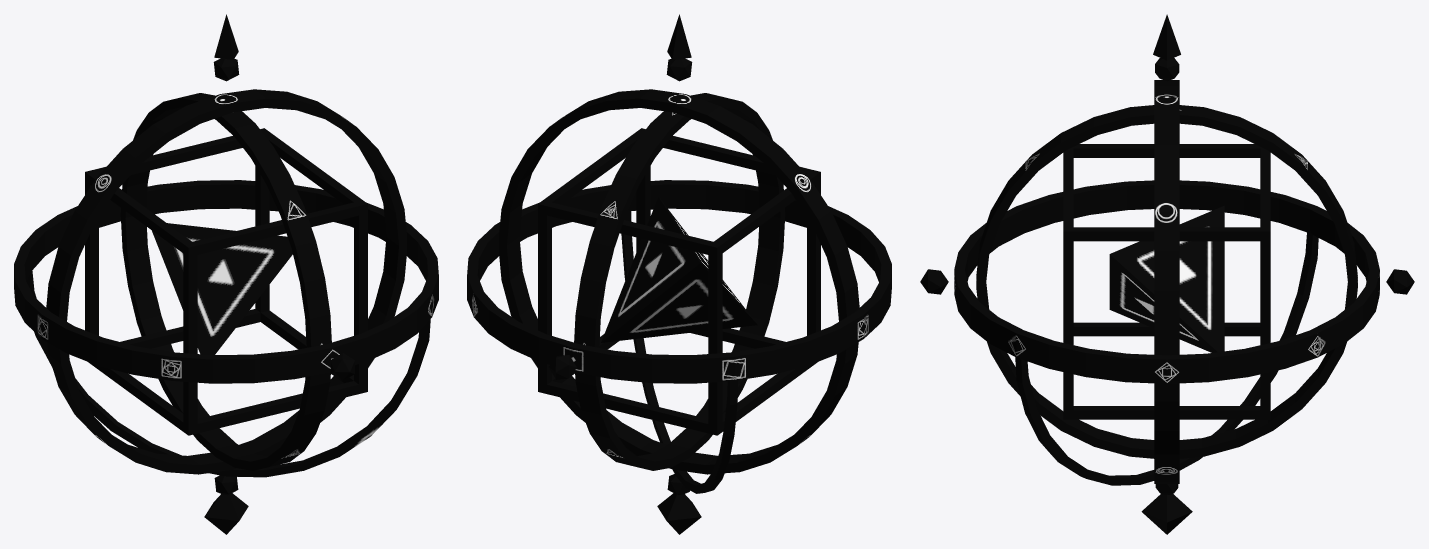
File: 真的浑天仪.fbx
3 renders of one model, left to right at view 1: azimuth 30°, elevation 25°; view 2: azimuth 150°, elevation 25°; view 3: azimuth 270°, elevation 25°, orthographic.
Visible parts, largest first — view 1: 柱体.002, 立方体, 柱体.001, 柱体.003, 等边三棱锥, 柱体.004, 菱形.001, 锥体, 棱角球.004; view 2: 柱体.002, 柱体.001, 立方体, 柱体.003, 等边三棱锥, 柱体.004, 菱形.001, 锥体, 棱角球.003; view 3: 柱体.002, 柱体.003, 立方体, 柱体.001, 等边三棱锥, 柱体.004, 菱形.001, 锥体.
Part boxes in pixels (x1,y1,x2,y2): 柱体.002: (14, 180, 438, 383); 立方体: (85, 128, 367, 435); 柱体.001: (46, 89, 406, 474); 柱体.003: (120, 93, 331, 470); 等边三棱锥: (152, 223, 292, 354); 柱体.004: (27, 270, 430, 477); 菱形.001: (204, 493, 248, 534); 锥体: (214, 14, 238, 59); 棱角球.004: (330, 353, 354, 380); 柱体.002: (467, 180, 891, 383); 柱体.001: (499, 89, 859, 474); 立方体: (538, 128, 820, 435); 柱体.003: (574, 93, 785, 470); 等边三棱锥: (601, 197, 757, 342); 柱体.004: (621, 210, 737, 493); 菱形.001: (657, 493, 701, 534); 锥体: (667, 14, 691, 59); 棱角球.003: (548, 355, 576, 379); 柱体.002: (954, 180, 1379, 383); 柱体.003: (976, 105, 1357, 458); 立方体: (1063, 144, 1270, 419); 柱体.001: (1154, 80, 1179, 483); 等边三棱锥: (1109, 205, 1224, 352); 柱体.004: (1015, 232, 1318, 485); 菱形.001: (1141, 494, 1192, 534); 锥体: (1153, 14, 1180, 60).
Bounding box in the file's own units: 1912 × 2581 × 2221.
